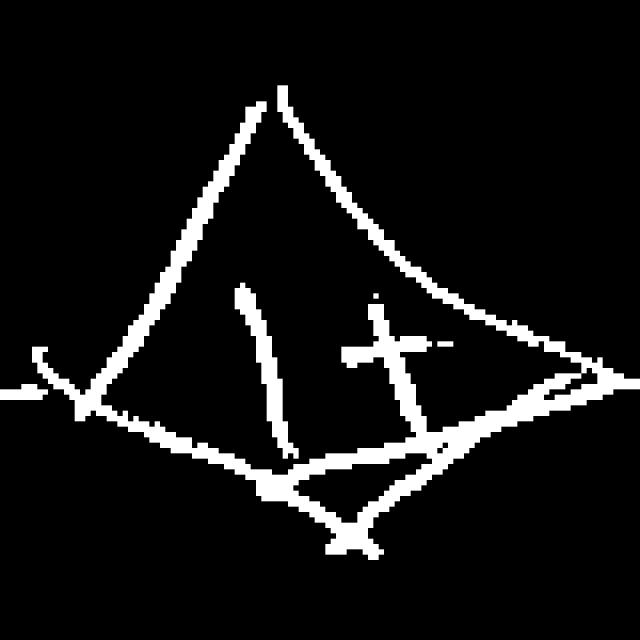dependant_voltage: (82, 67, 612, 533)
